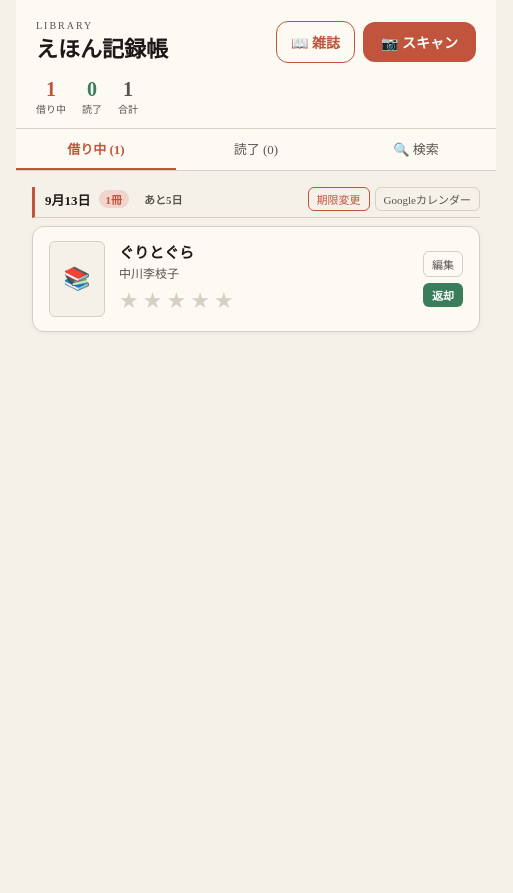
MainApp — borrowing tab › when a book is returned from its card, it should move out of the borrowing list
The image size is (513, 893).
Click the button "返却" at (443, 295), box [423,283,463,307]
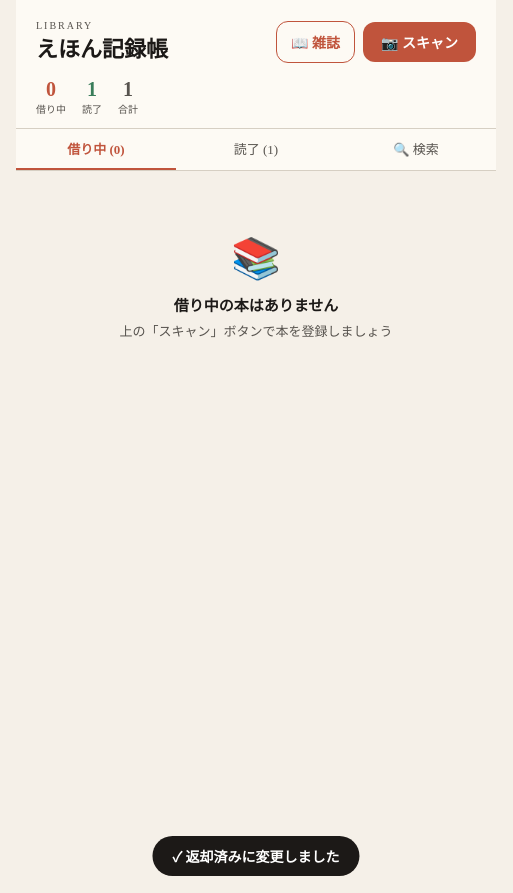
Check: the text "✓ 返却済みに変更しました" is shown, box [152,836,360,876]
